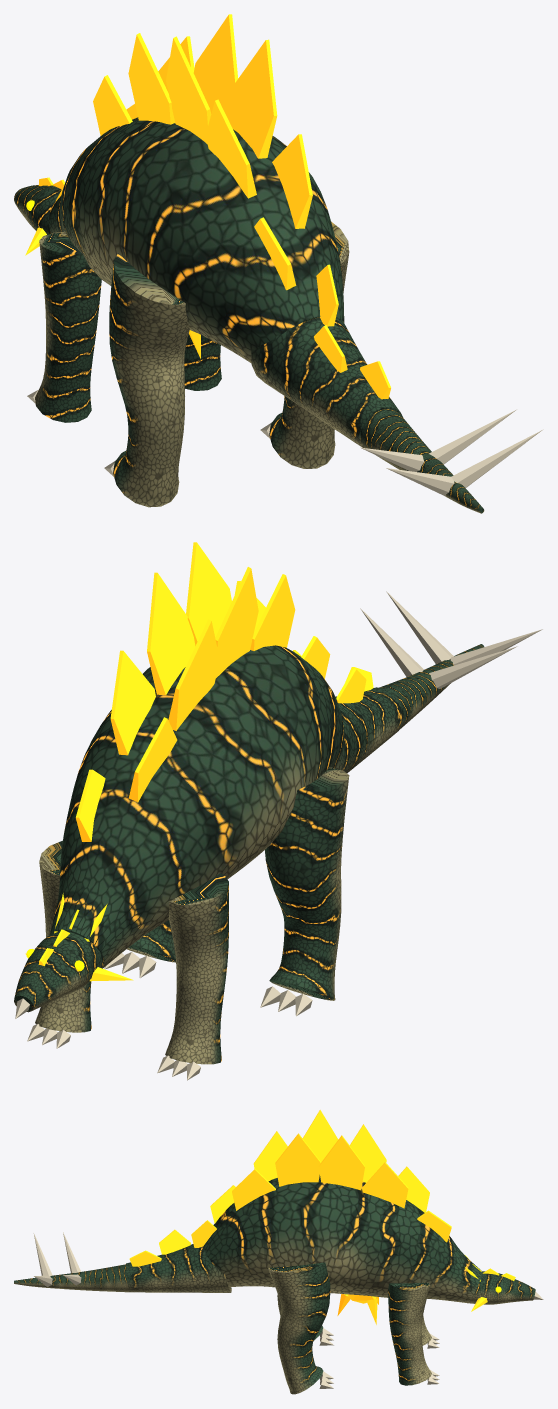
File: stego_titan.glb
3 renders of one model, top to bottom at view 1: azimuth 30°, elevation 25°; view 2: azimuth 150°, elevation 25°; view 3: azimuth 270°, elevation 25°, orthographic. The views are drawn at different scales.
Parts seen in each view (by area): view 1: Body, Back_Plates, Leg_L_Tendon, Tail_Upper, FLeg_L, Tail_Tip, Leg_R_Tendon, Head_Armor, FLeg_R; view 2: Body, Back_Plates, Leg_L_Tendon, FLeg_L, Head_Armor, Tail_Tip, Tail_Upper, FLeg_R, Leg_R_Tendon; view 3: Body, Back_Plates, Leg_R_Tendon, Tail_Upper, FLeg_R, Tail_Tip, Head_Armor, Bio_Core.
Part boxes in pixels (x1,y1,x2,y2): Body: (48, 117, 344, 363); Back_Plates: (93, 14, 312, 290); Leg_L_Tendon: (104, 253, 189, 507); Tail_Upper: (251, 264, 402, 447); FLeg_L: (27, 231, 101, 422); Tail_Tip: (360, 409, 543, 513); Leg_R_Tendon: (260, 221, 349, 468); Head_Armor: (14, 177, 64, 255); FLeg_R: (184, 334, 221, 390); Body: (50, 645, 344, 968); Back_Plates: (75, 542, 330, 841); Leg_L_Tendon: (260, 767, 349, 1016); FLeg_L: (157, 873, 228, 1080); Head_Armor: (14, 893, 133, 1018); Tail_Tip: (360, 591, 542, 729); Tail_Upper: (293, 650, 403, 773); FLeg_R: (27, 840, 91, 1048); Leg_R_Tendon: (104, 920, 175, 977); Body: (203, 1175, 481, 1302); Back_Plates: (210, 1110, 451, 1242); Leg_R_Tendon: (268, 1262, 333, 1394); Tail_Upper: (126, 1220, 231, 1292); FLeg_R: (388, 1282, 439, 1385); Tail_Tip: (14, 1232, 128, 1292); Head_Armor: (465, 1255, 543, 1311); Bio_Core: (337, 1294, 378, 1324).
Size of the model in its own units: 8.92 by 16.98 by 32.6.
Materials: 5 (1 with a texture image).
